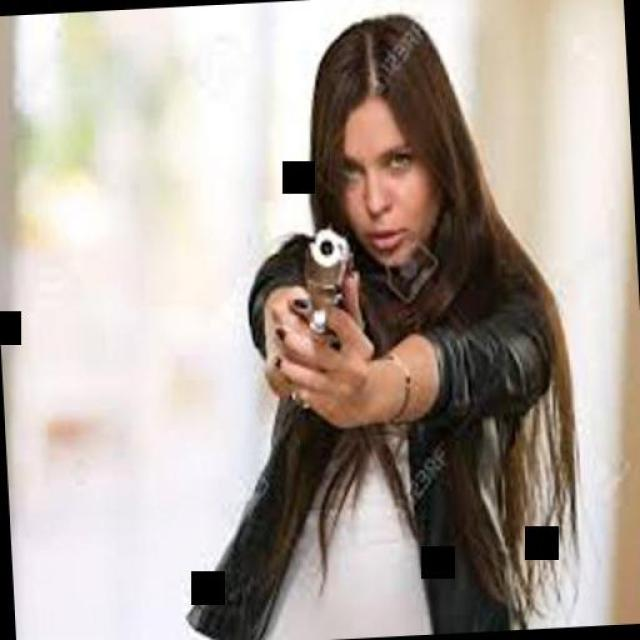gun: (302, 220, 370, 369)
